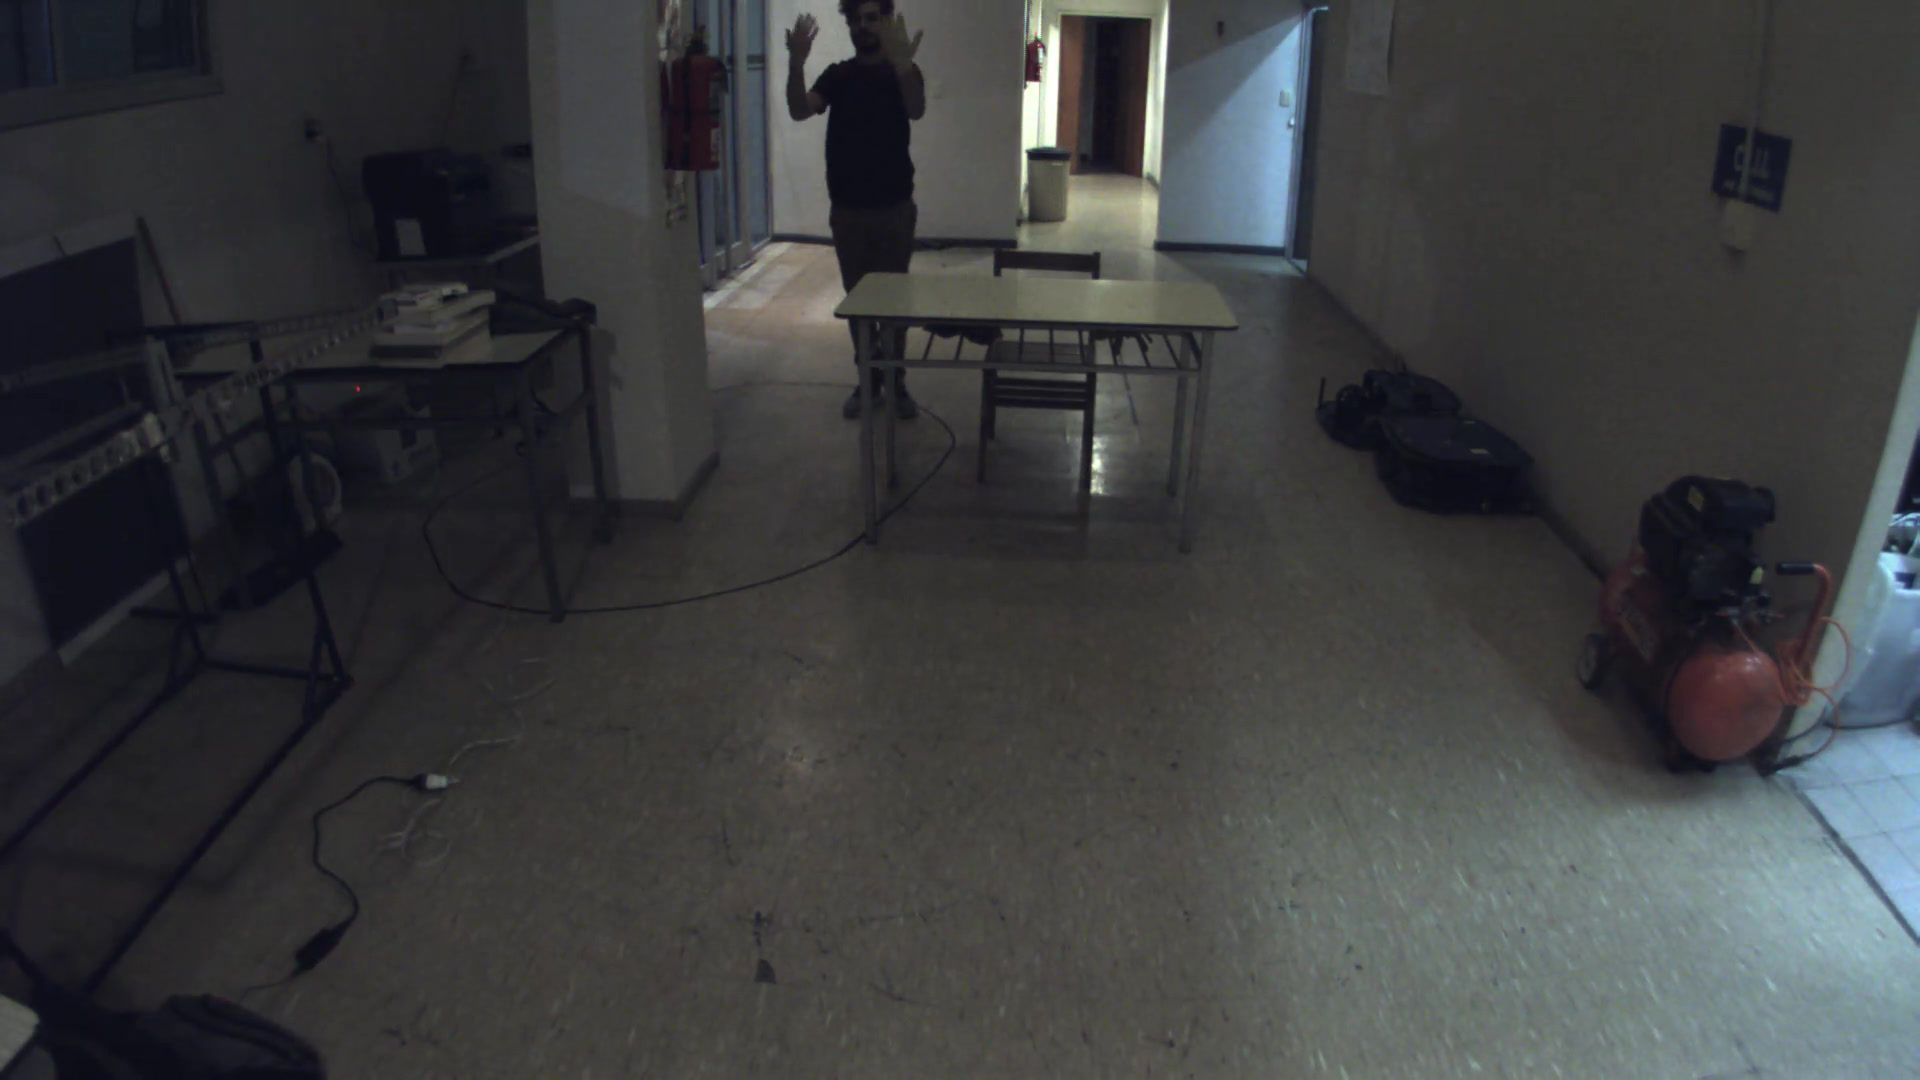hand: (868, 3, 930, 76), (785, 4, 829, 65)
